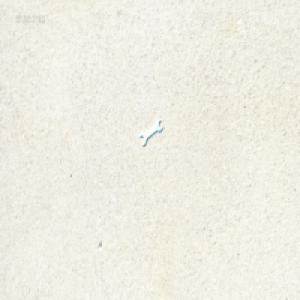Wrench: (138, 116, 160, 144)
